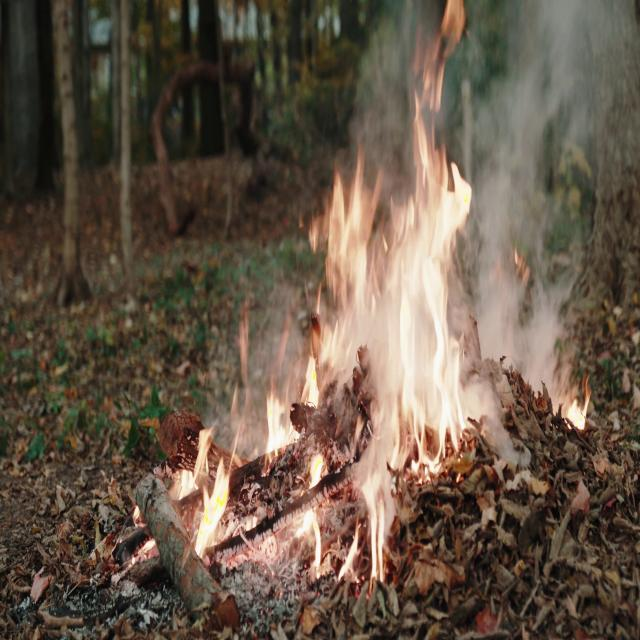Fire: (313, 41, 497, 592), (168, 321, 347, 591), (558, 378, 592, 438)
Smoke: (475, 0, 640, 452)
